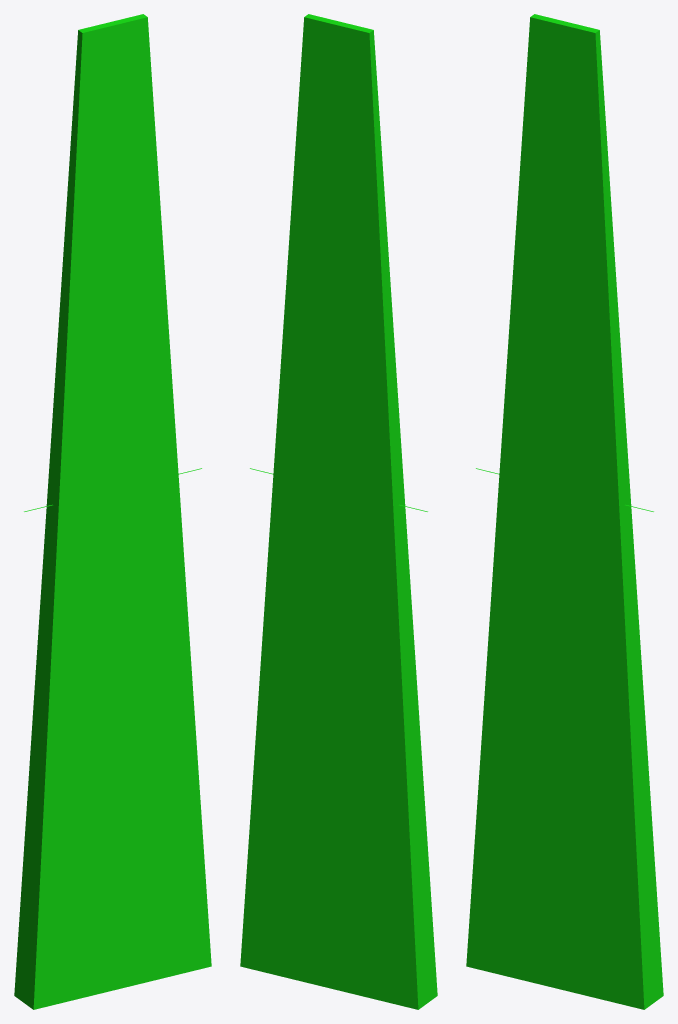
Rendered from grass.glb.
The picture shows the model from 3 angles, left to right: view 1: azimuth 30°, elevation 25°; view 2: azimuth 150°, elevation 25°; view 3: azimuth 330°, elevation 25°; orthographic projection.
Visible parts, largest first — view 1: Cube; view 2: Cube; view 3: Cube.
Part boxes in pixels (x1,y1,x2,y2): Cube: (14, 14, 211, 1009); Cube: (240, 14, 437, 1009); Cube: (466, 14, 663, 1009).
Size of the model in its own units: 0.0767 by 0.3937 by 0.0144.
